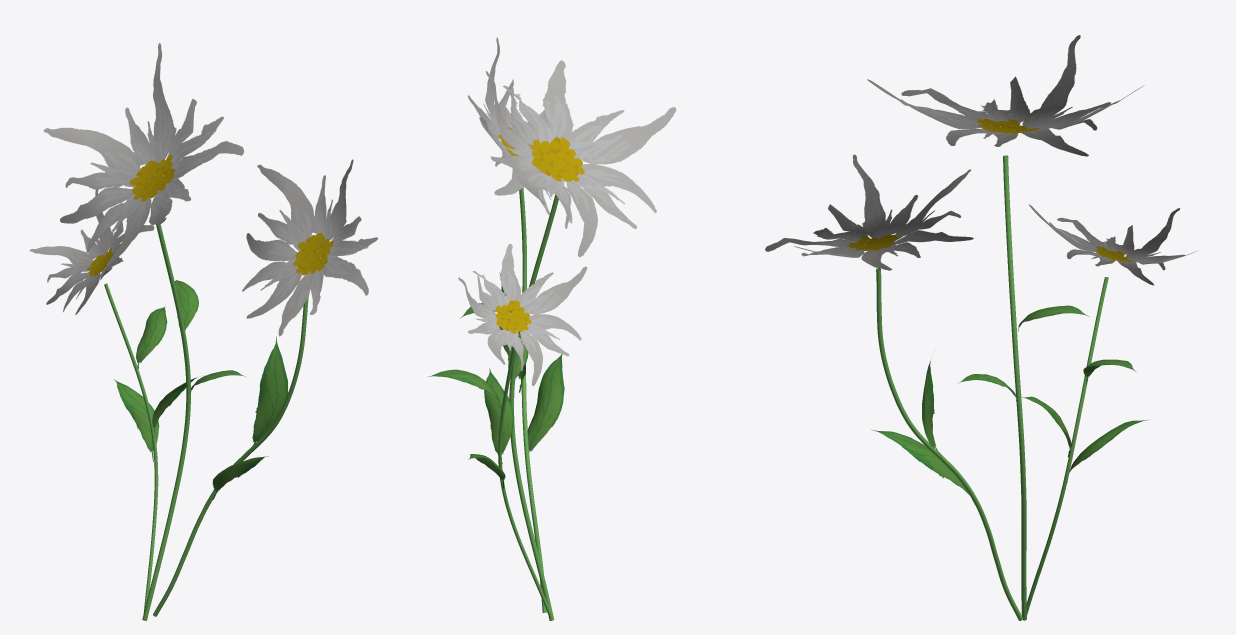
File: Edelweiss.glb
The picture shows the model from 3 angles, left to right: view 1: azimuth 30°, elevation 25°; view 2: azimuth 150°, elevation 25°; view 3: azimuth 270°, elevation 25°; orthographic projection. The views are drawn at different scales.
Visible parts, largest first — view 1: edelweiss_petal_2, edelweiss_petal_3, edelweiss_petal_1, edelweiss_stem_2, edelweiss_leaf_2.3, edelweiss_stem_3, edelweiss_stem_1, edelweiss_leaf_1.1, edelweiss_leaf_3.1, edelweiss_leaf_3.2, edelweiss_leaf_1.3; view 2: edelweiss_petal_2, edelweiss_petal_1, edelweiss_petal_3, edelweiss_leaf_1.3, edelweiss_stem_2, edelweiss_stem_3, edelweiss_leaf_2.1, edelweiss_stem_1, edelweiss_leaf_3.1; view 3: edelweiss_petal_2, edelweiss_petal_3, edelweiss_petal_1, edelweiss_stem_2, edelweiss_stem_3, edelweiss_stem_1, edelweiss_leaf_1.3, edelweiss_leaf_2.3, edelweiss_leaf_1.1.
Boxes of the visible parts, left/top/right/bottom form: edelweiss_petal_2: left=43, top=43, right=243, bottom=266; edelweiss_petal_3: left=242, top=159, right=377, bottom=336; edelweiss_petal_1: left=29, top=189, right=154, bottom=314; edelweiss_stem_2: left=142, top=224, right=190, bottom=620; edelweiss_leaf_2.3: left=252, top=336, right=287, bottom=445; edelweiss_stem_3: left=153, top=297, right=308, bottom=616; edelweiss_stem_1: left=104, top=283, right=158, bottom=613; edelweiss_leaf_1.1: left=114, top=379, right=159, bottom=461; edelweiss_leaf_3.1: left=136, top=306, right=167, bottom=369; edelweiss_leaf_3.2: left=174, top=280, right=198, bottom=330; edelweiss_leaf_1.3: left=212, top=456, right=268, bottom=499; edelweiss_petal_2: left=485, top=60, right=676, bottom=257; edelweiss_petal_1: left=458, top=244, right=587, bottom=385; edelweiss_petal_3: left=468, top=37, right=572, bottom=223; edelweiss_leaf_1.3: left=527, top=354, right=564, bottom=452; edelweiss_stem_2: left=509, top=195, right=558, bottom=620; edelweiss_stem_3: left=519, top=188, right=546, bottom=612; edelweiss_leaf_2.1: left=484, top=368, right=514, bottom=464; edelweiss_stem_1: left=498, top=346, right=551, bottom=616; edelweiss_leaf_3.1: left=428, top=369, right=501, bottom=408; edelweiss_petal_2: left=867, top=35, right=1144, bottom=156; edelweiss_petal_3: left=765, top=154, right=973, bottom=270; edelweiss_petal_1: left=1029, top=204, right=1198, bottom=285; edelweiss_stem_2: left=1003, top=155, right=1026, bottom=620; edelweiss_stem_3: left=876, top=268, right=1022, bottom=620; edelweiss_stem_1: left=1026, top=277, right=1108, bottom=615; edelweiss_leaf_1.3: left=871, top=429, right=974, bottom=504; edelweiss_leaf_2.3: left=922, top=361, right=941, bottom=456; edelweiss_leaf_1.1: left=1067, top=419, right=1148, bottom=482.
Bounding box in the file's own units: 0.2409 × 0.5484 × 0.3762.
3 materials, 2 textured.
